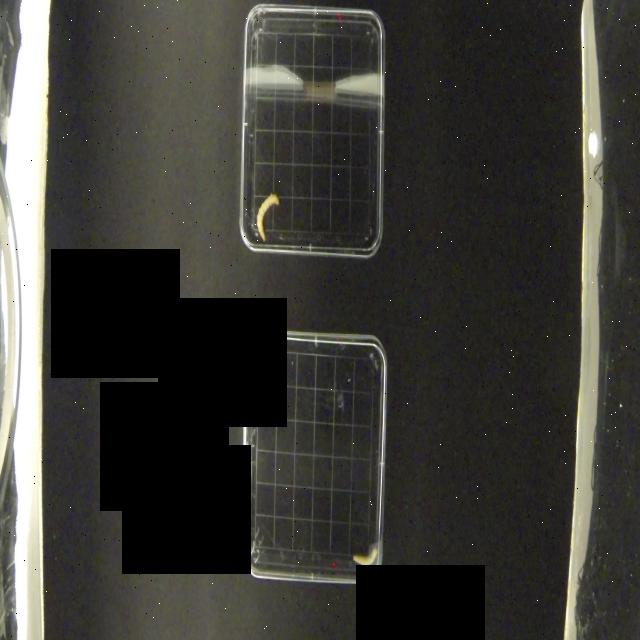larva: (256, 192, 281, 240), (354, 540, 379, 570)
